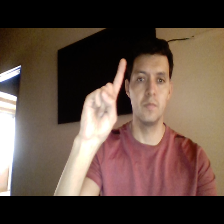2T: (75, 53, 130, 148)
